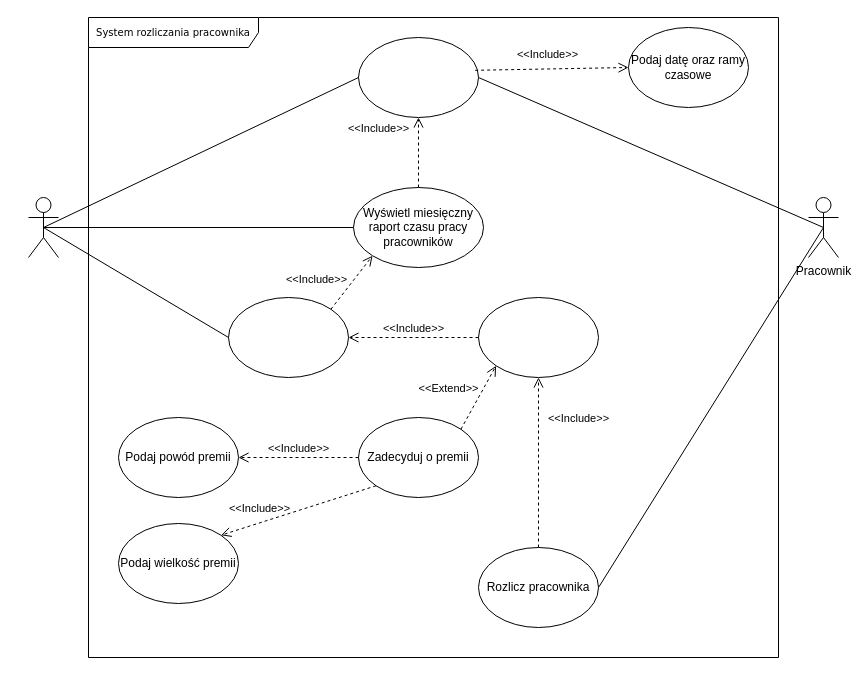
Some shapes in this 868 by 675 pixel diagram are drawn without their labels. Here are the shapes that lost their labels. From the top down, the centre of each, then its label:
point (418, 77): Zarejestruj swój czas pracy
point (43, 227): Księgowa
point (288, 337): Zatwierdź miesięczny czas pracy
point (538, 337): Oblicz podstawowe wynagrodzenie pracownika
